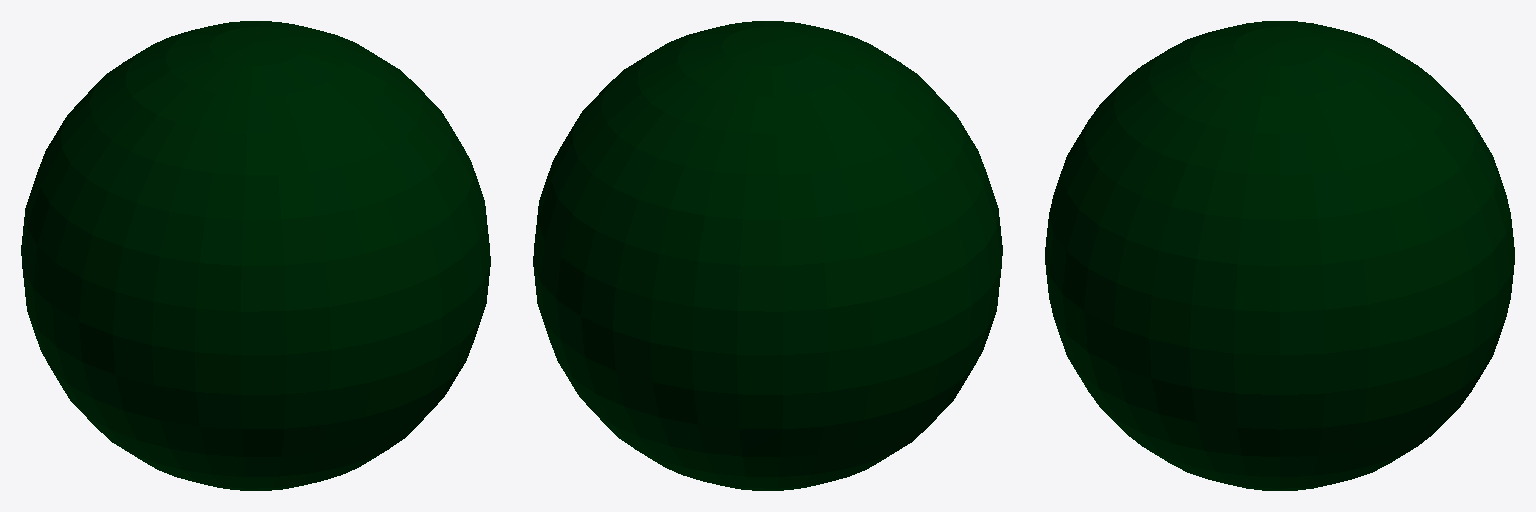
File: Rifle.obj
The picture shows the model from 3 angles: view 1: azimuth 30°, elevation 25°; view 2: azimuth 150°, elevation 25°; view 3: azimuth 270°, elevation 25°; orthographic projection.
Visible parts, largest first — view 1: Sphere001; view 2: Sphere001; view 3: Sphere001.
Boxes of the visible parts, x1=… form: Sphere001: x1=21, y1=21, x2=490, y2=490; Sphere001: x1=533, y1=21, x2=1002, y2=490; Sphere001: x1=1045, y1=21, x2=1514, y2=490.
Bounding box in the file's own units: 7.19 × 7.19 × 7.19.